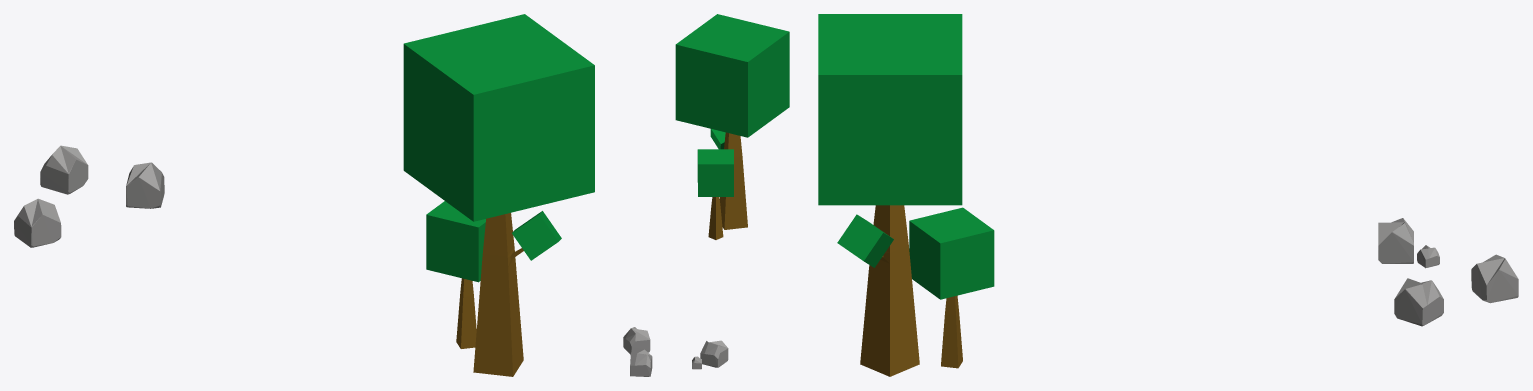
File: forest-details-3.fbx
3 views of the same model, side by side, from view 1: azimuth 30°, elevation 25°; view 2: azimuth 150°, elevation 25°; view 3: azimuth 270°, elevation 25° (orthographic). The views are drawn at different scales.
Visible parts, largest first — view 1: forest-details-3; view 2: forest-details-3; view 3: forest-details-3.
Boxes of the visible parts, x1,y1,x2,y2 form: forest-details-3: (14, 14, 594, 376); forest-details-3: (623, 14, 789, 376); forest-details-3: (818, 14, 1518, 376).
Size of the model in its own units: 0.8226 by 0.842 by 1.67.
